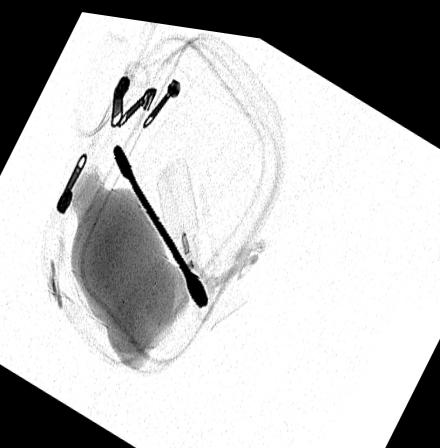Wrench: (112, 138, 210, 303)
